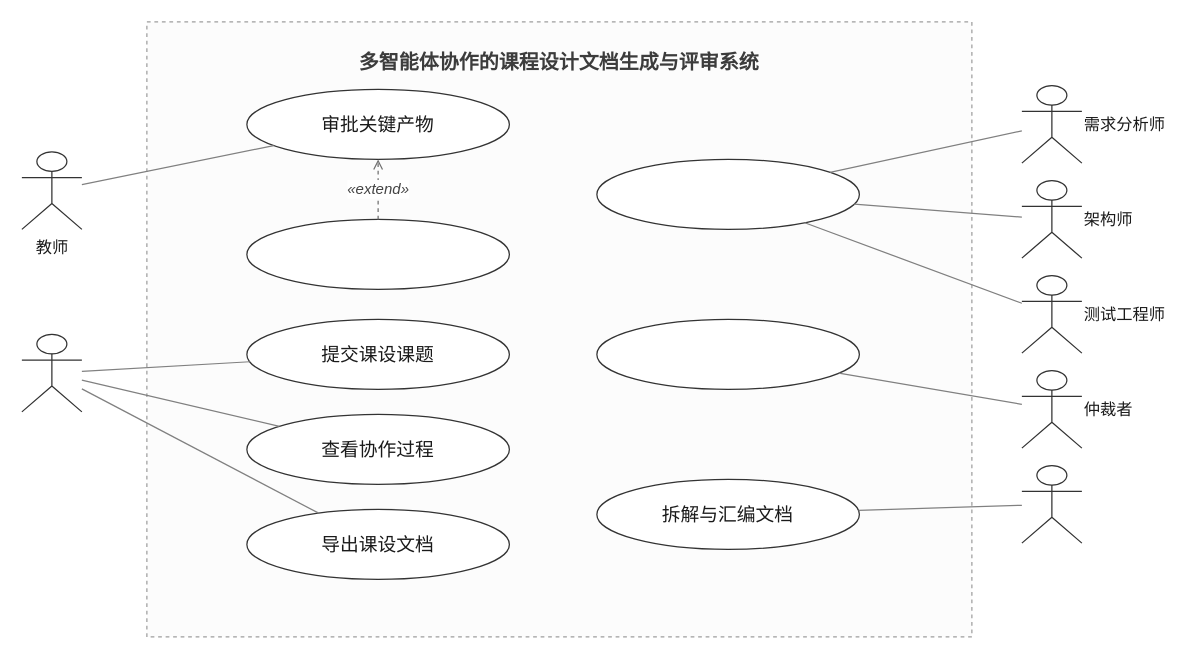
Image size: 1188x659. Some labels were removed from this diagram. Here are the shapes that lost their labels. From the top down, the centre of each, then its label:
(x=727, y=193): 执行评审轮次
(x=377, y=253): 打回重做
(x=51, y=372): 学生
(x=727, y=353): 汇总并判定收敛
(x=1051, y=503): 文档工程师
